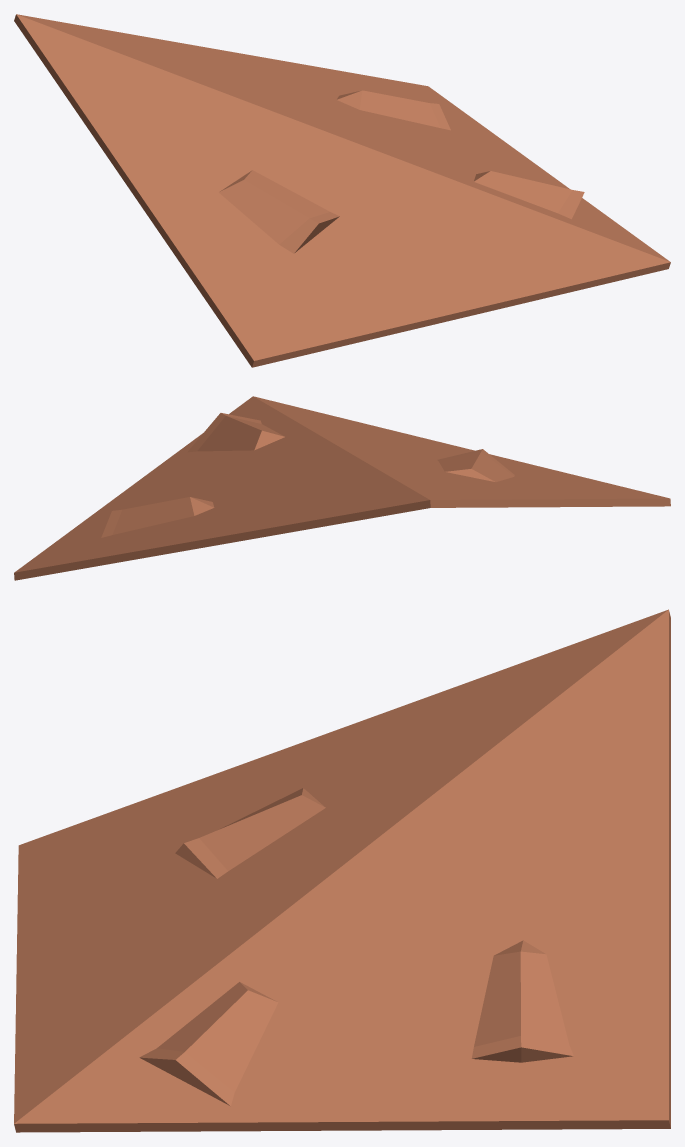
The model's file is empire-roof-out-edge-big-3m-empire.glb.
3 renders of one model, top to bottom at view 1: azimuth 30°, elevation 25°; view 2: azimuth 150°, elevation 25°; view 3: azimuth 270°, elevation 25°, orthographic. The views are drawn at different scales.
Parts seen in each view (by area): view 1: SM_Roof_Out_Edge_Big_3m_Empire; view 2: SM_Roof_Out_Edge_Big_3m_Empire; view 3: SM_Roof_Out_Edge_Big_3m_Empire.
Boxes of the visible parts, x1,y1,x2,y2 form: SM_Roof_Out_Edge_Big_3m_Empire: [14, 14, 670, 367]; SM_Roof_Out_Edge_Big_3m_Empire: [14, 396, 670, 580]; SM_Roof_Out_Edge_Big_3m_Empire: [14, 609, 670, 1132].
Size of the model in its own units: 3 by 1.24 by 3.
